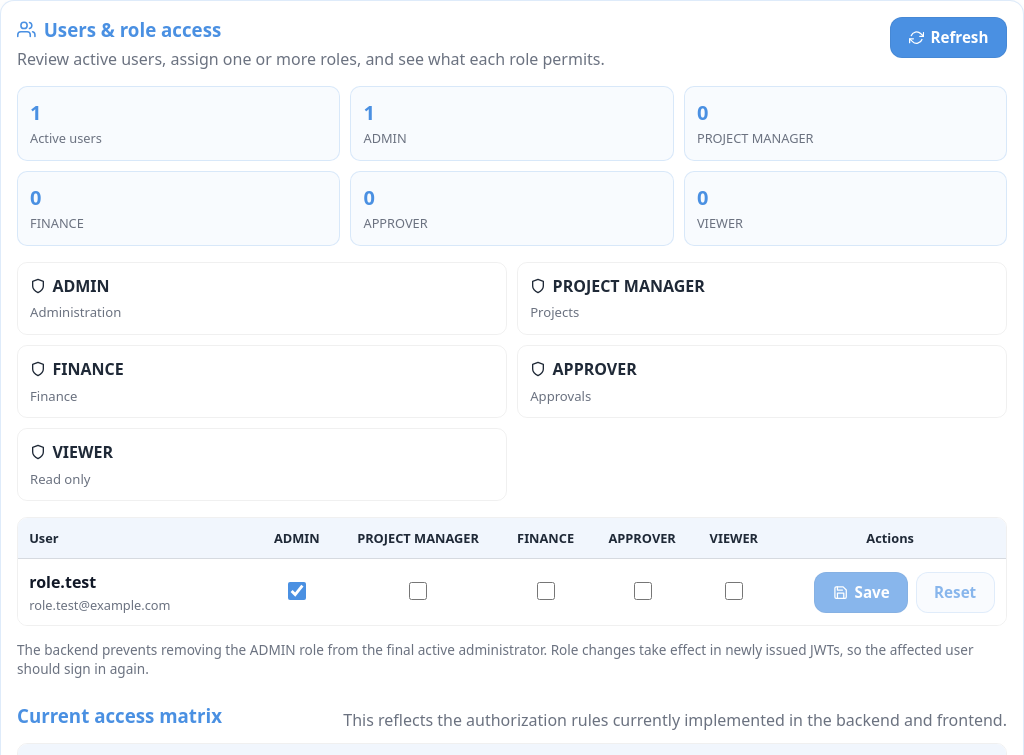
Test case: UserRoleManagement › shows the backend final-admin conflict
This screenshot has width=1024, height=755.
Expected: the text "role.test" is shown, [29,571,96,593]
Click the checkbox named "Assign VIEWER to role.test".
click(734, 591)  # box [725,582,743,600]
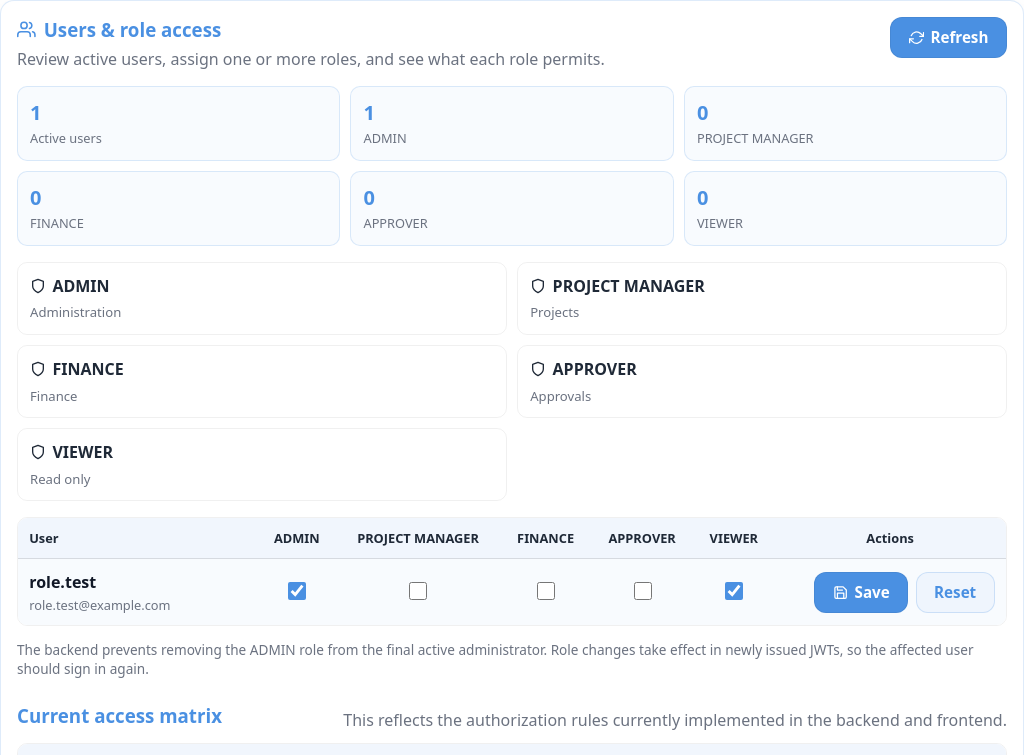
Click the checkbox named "Assign ADMIN to role.test".
click(297, 591)  # box [288,582,306,600]
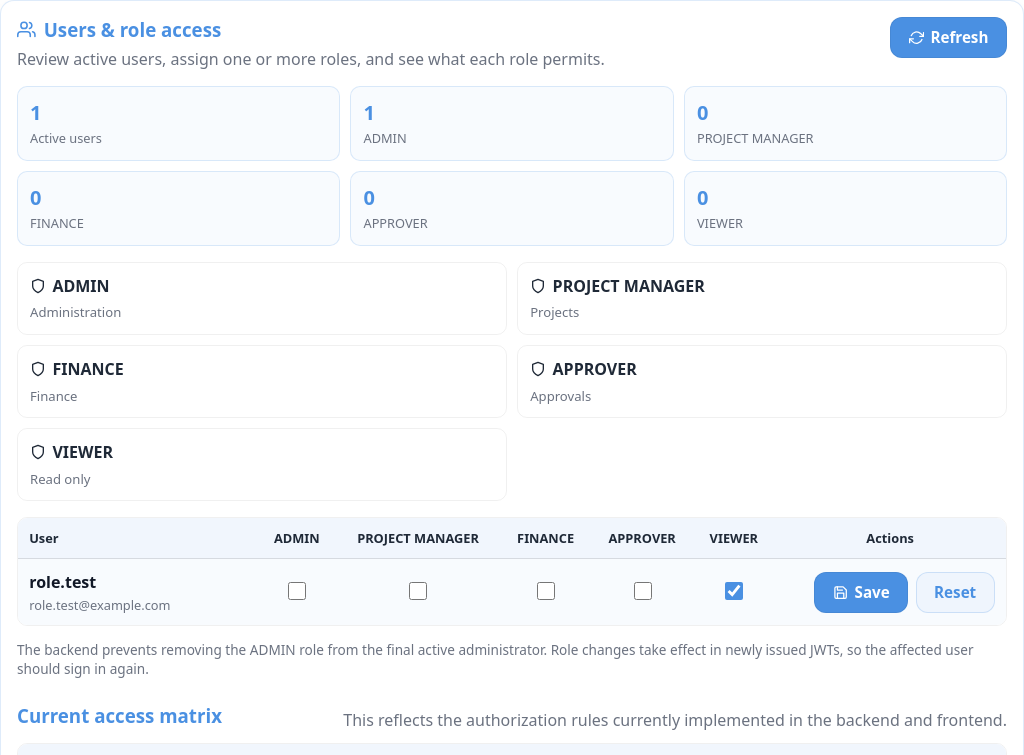
Click the button "Save".
click(861, 592)  # box [814,572,908,613]
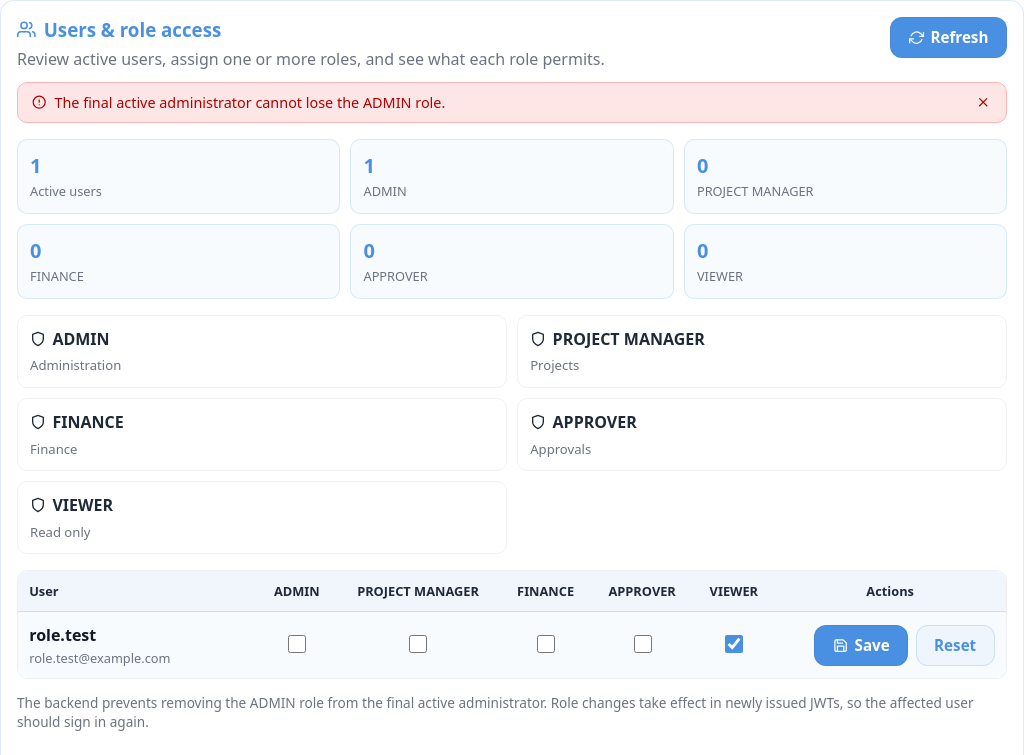
Now the text "The final active administrator cannot lose the ADMIN role." is shown, box [54,93,445,112]
